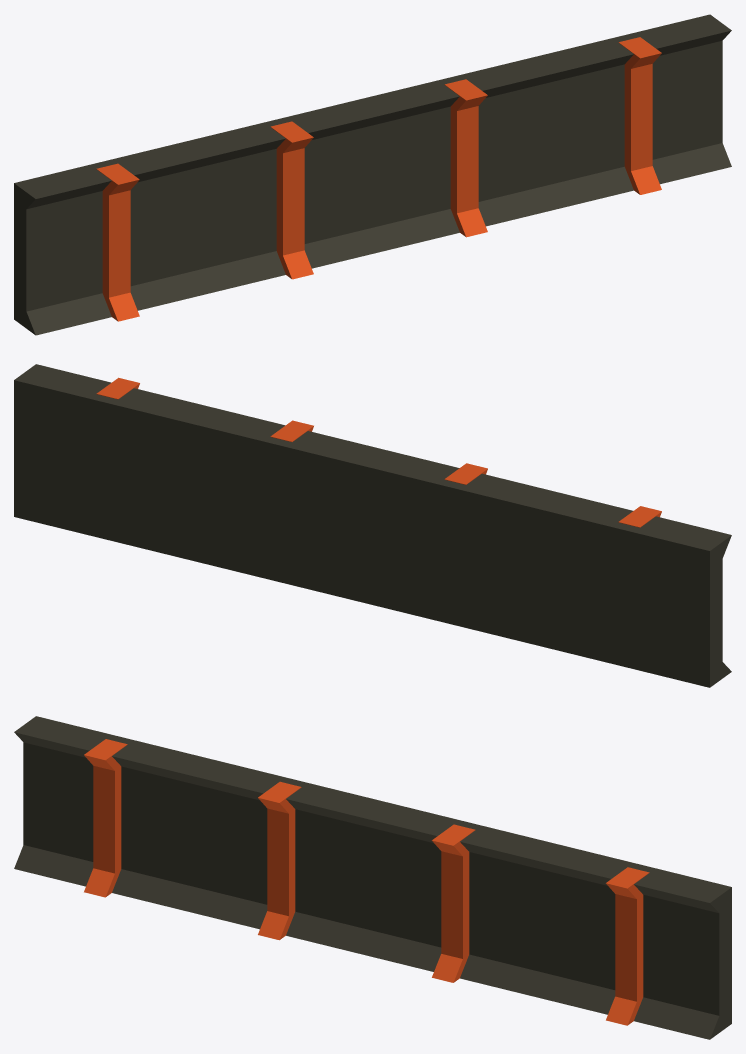
The model's file is WallLong.fbx.
3 renders of one model, top to bottom at view 1: azimuth 30°, elevation 25°; view 2: azimuth 150°, elevation 25°; view 3: azimuth 330°, elevation 25°, orthographic.
Parts seen in each view (by area): view 1: WallLong; view 2: WallLong; view 3: WallLong.
Part boxes in pixels (x1=…): WallLong: x1=14, y1=14, x2=731, y2=335; WallLong: x1=14, y1=364, x2=731, y2=687; WallLong: x1=14, y1=716, x2=731, y2=1039.
Size of the model in its own units: 1600 by 301 by 117.
